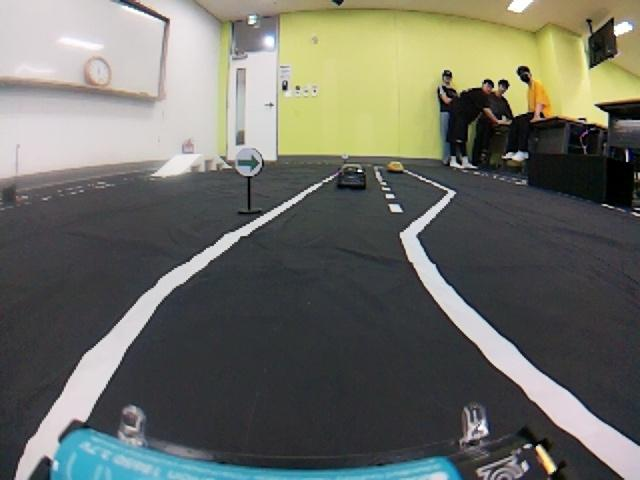car: (336, 156, 375, 193), (380, 155, 410, 174)
sign_right: (230, 141, 269, 178)
straight: (9, 251, 640, 475)
